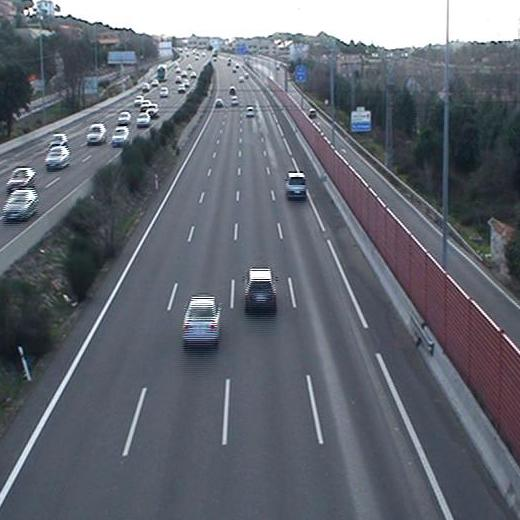car: (181, 296, 223, 345), (244, 269, 275, 307), (285, 171, 307, 196), (243, 104, 258, 116), (214, 98, 226, 111)
